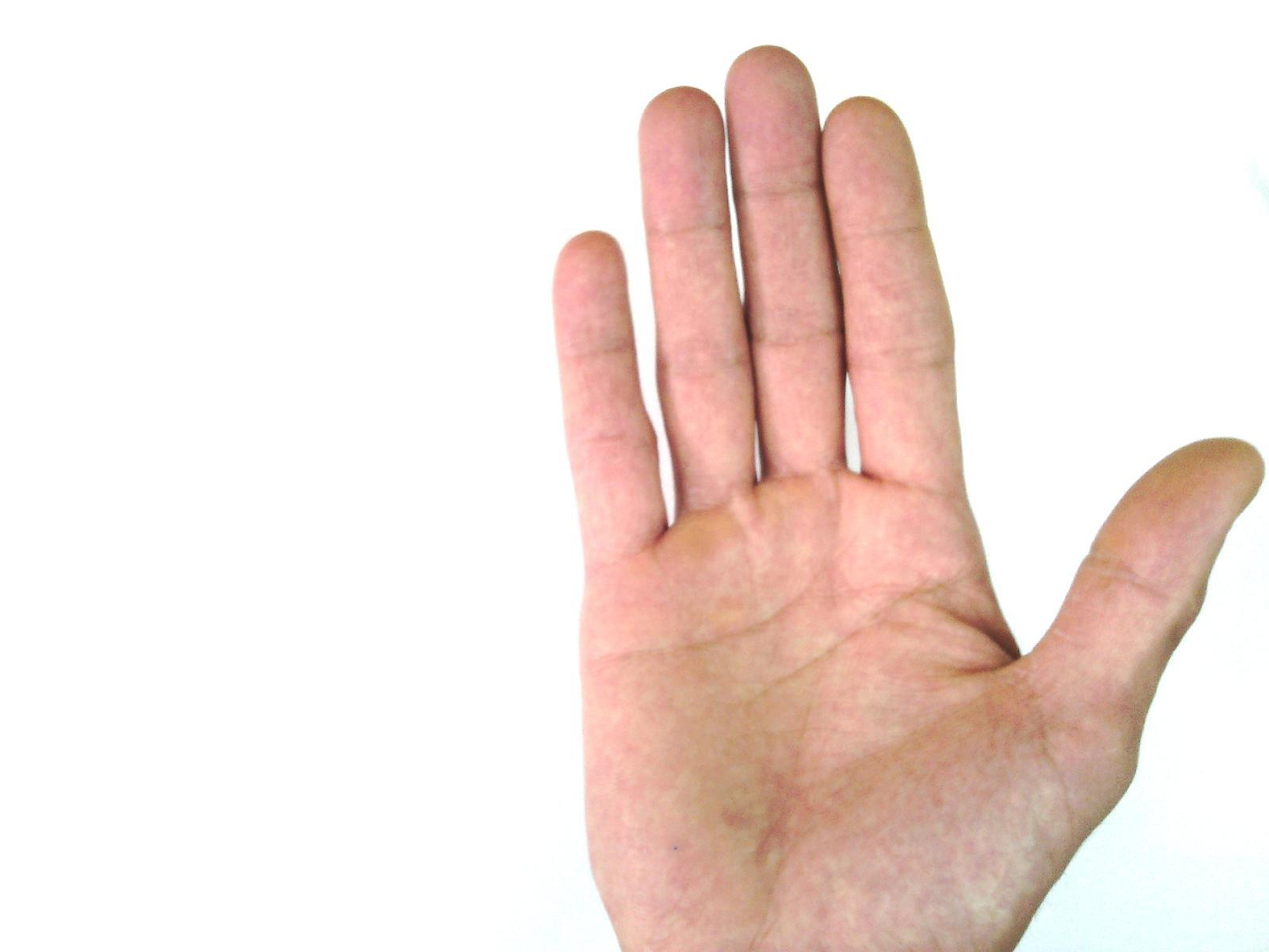open_palm: (547, 44, 1265, 951)
